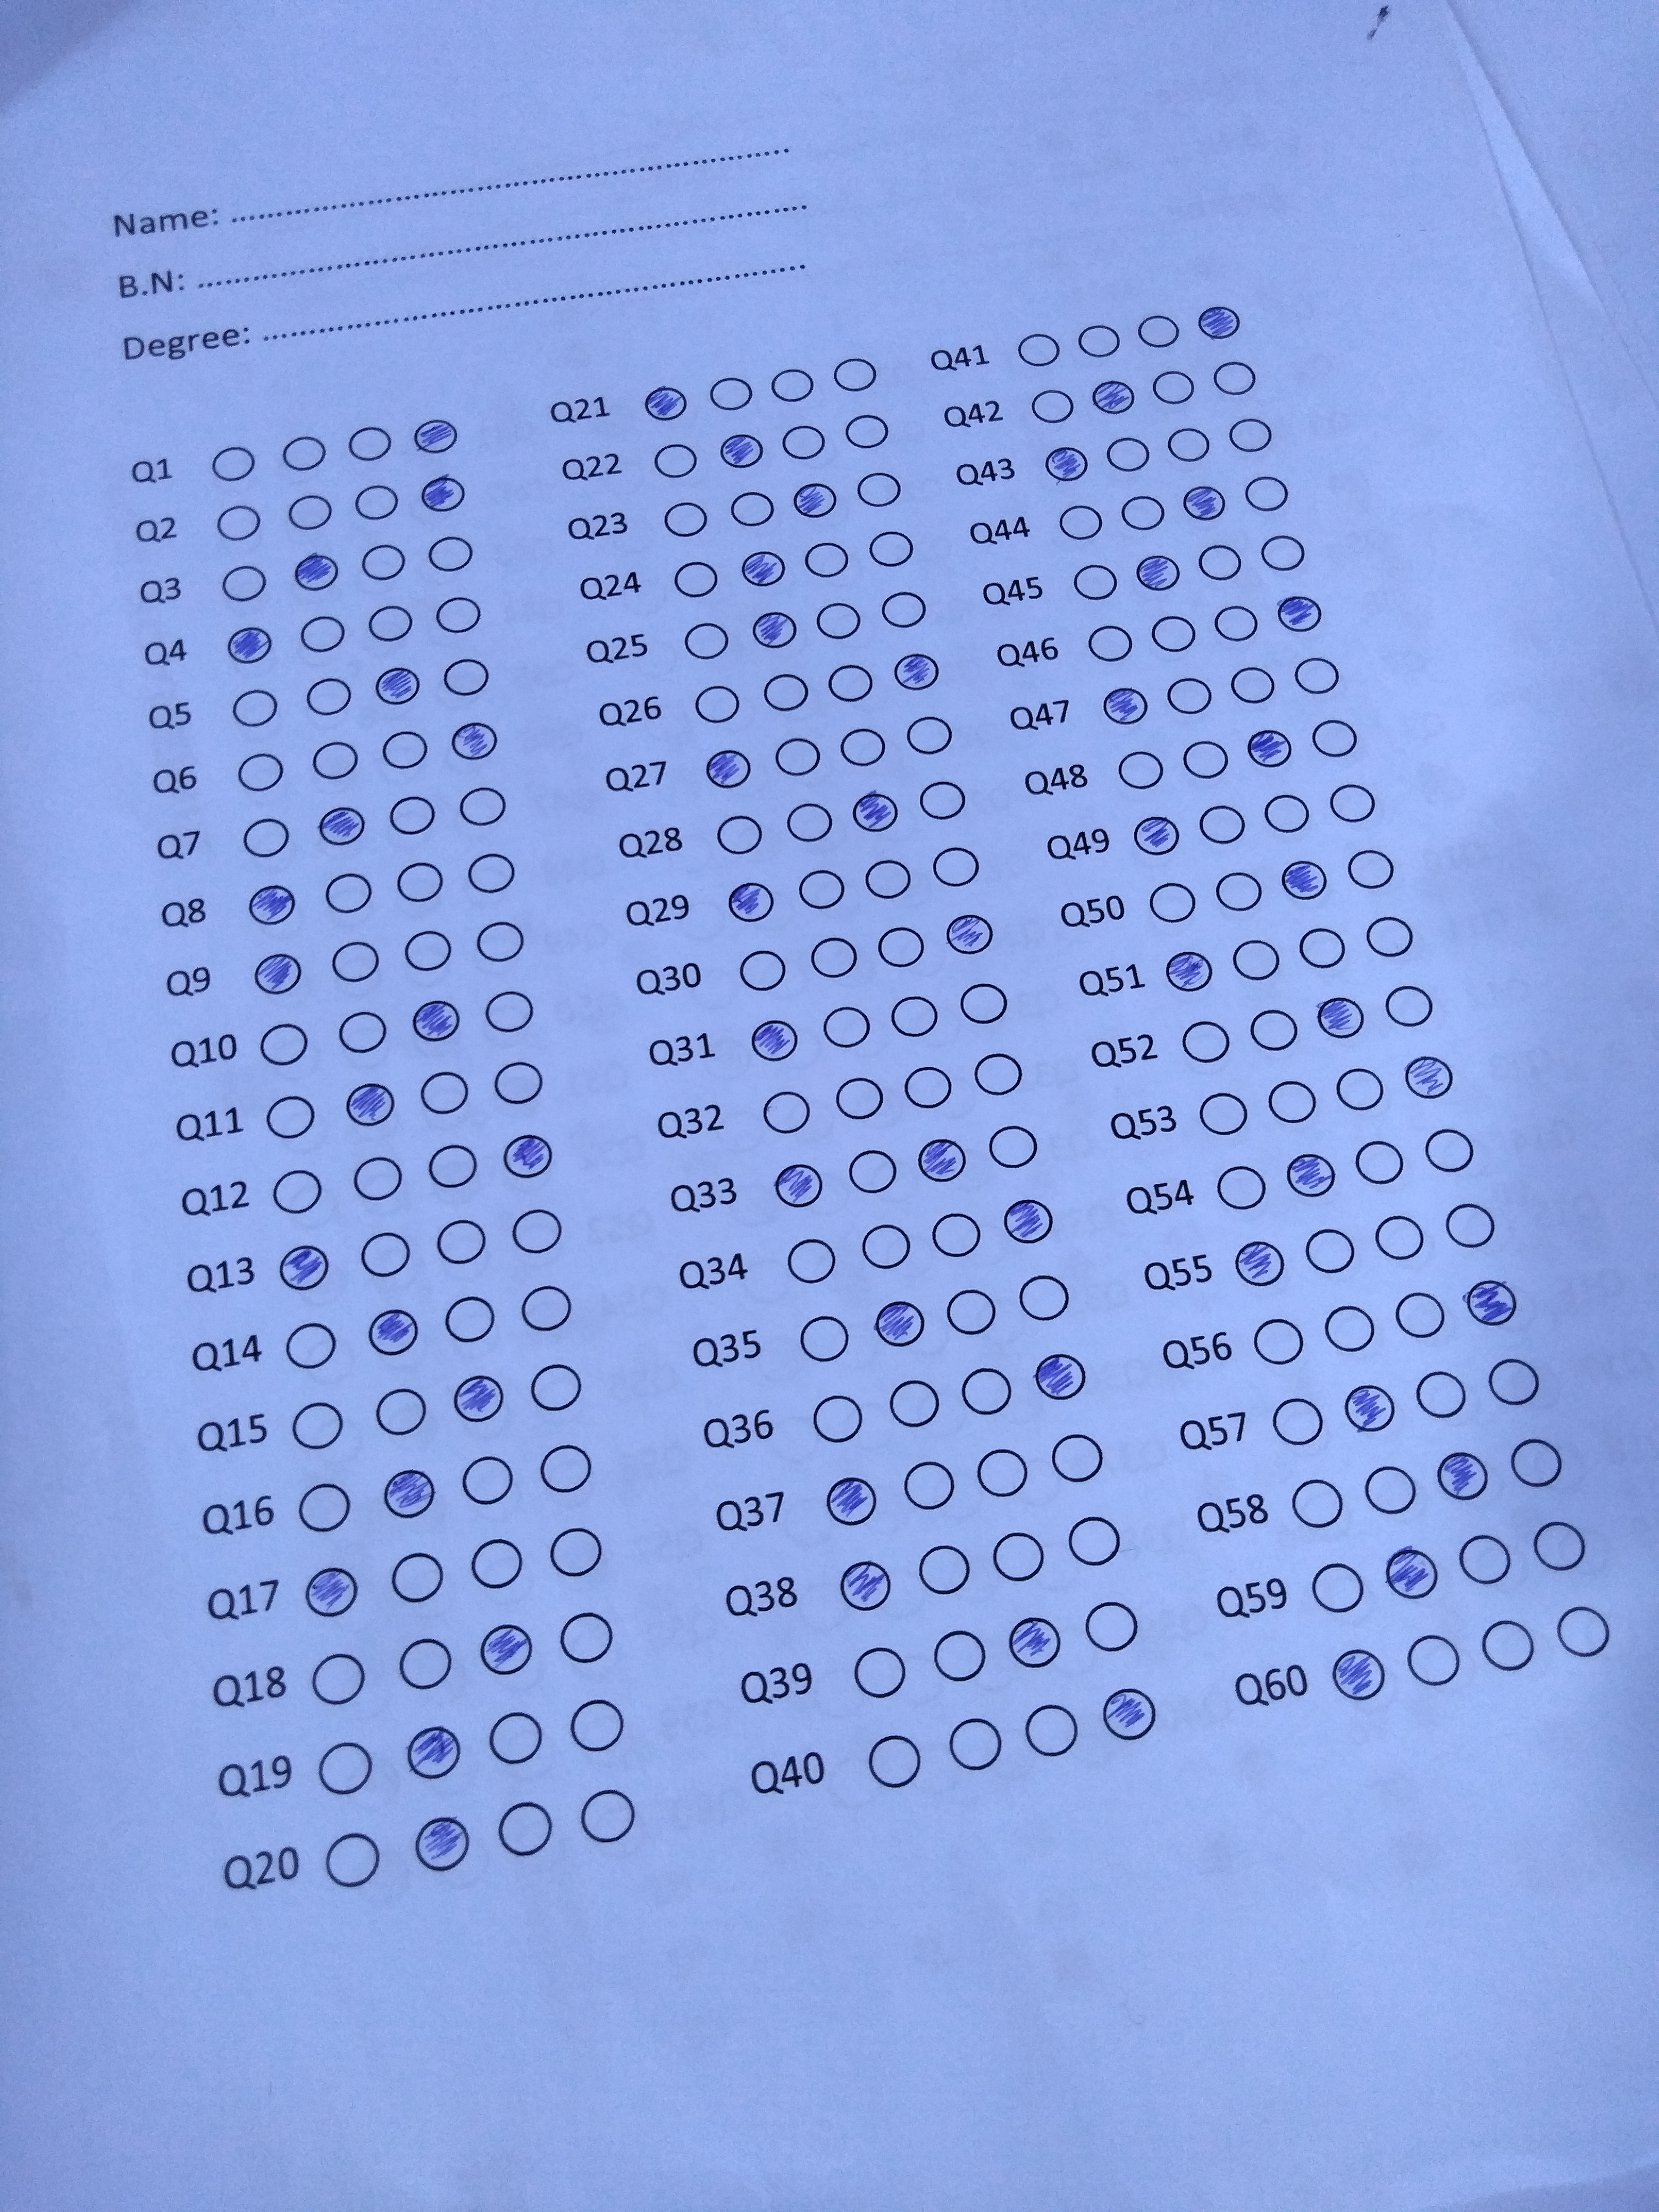not-c: (936, 1716, 1009, 1775), (1549, 1604, 1622, 1663), (1063, 1512, 1136, 1571), (908, 1540, 981, 1599), (894, 1453, 965, 1512), (969, 1444, 1040, 1503), (927, 1627, 999, 1686), (1394, 1632, 1467, 1689), (1046, 1432, 1119, 1489), (854, 1731, 927, 1789), (1082, 1595, 1154, 1653), (990, 1527, 1061, 1585), (836, 1644, 908, 1702), (1305, 1557, 1375, 1613), (1453, 1534, 1523, 1590), (1316, 1303, 1385, 1359), (1241, 1317, 1310, 1372), (920, 1204, 990, 1259), (1007, 1270, 1077, 1325), (953, 1366, 1023, 1421), (1387, 1287, 1457, 1343), (791, 1306, 861, 1362), (978, 1120, 1047, 1176), (1260, 1395, 1328, 1451), (1279, 1475, 1347, 1531), (939, 1282, 1007, 1338), (1364, 1211, 1432, 1266), (1439, 1195, 1507, 1251), (1419, 1127, 1486, 1183), (1480, 1618, 1549, 1672), (882, 1378, 951, 1432), (1483, 1355, 1553, 1409), (1527, 1521, 1595, 1575), (1359, 1463, 1427, 1517), (800, 1392, 868, 1446), (1408, 1369, 1476, 1423), (1347, 1139, 1415, 1193), (1504, 1439, 1572, 1493), (387, 1550, 450, 1608), (484, 1710, 547, 1768), (491, 1799, 554, 1857), (575, 1787, 638, 1844), (565, 1698, 627, 1756), (293, 1475, 355, 1533), (371, 1383, 434, 1440), (286, 1397, 349, 1454), (317, 1829, 380, 1886), (305, 1653, 368, 1710), (397, 1634, 460, 1691), (1023, 1703, 1086, 1761), (314, 1742, 376, 1797), (458, 1456, 521, 1508), (439, 1296, 500, 1348), (469, 1536, 530, 1588), (556, 1611, 617, 1663), (547, 1526, 608, 1578), (537, 1442, 598, 1494), (526, 1362, 587, 1414), (782, 799, 845, 850), (884, 996, 948, 1045), (953, 982, 1018, 1031), (1297, 923, 1361, 972), (1208, 1165, 1272, 1214), (1175, 1019, 1239, 1068), (807, 932, 871, 981), (816, 1003, 880, 1052), (831, 723, 896, 772), (1307, 716, 1371, 765), (1319, 777, 1384, 826), (753, 669, 817, 718), (1260, 787, 1324, 836), (854, 1223, 917, 1271), (965, 1050, 1028, 1099), (1140, 881, 1202, 930), (1380, 982, 1443, 1031), (1361, 914, 1424, 963), (1246, 1005, 1309, 1054), (1330, 1066, 1392, 1115), (1298, 1226, 1361, 1275), (1190, 1090, 1253, 1139), (873, 925, 936, 974), (843, 1148, 906, 1197), (829, 1075, 892, 1123), (894, 1064, 957, 1113), (899, 716, 962, 765), (915, 779, 978, 827), (929, 845, 992, 894), (861, 857, 924, 906), (793, 864, 856, 913), (728, 944, 791, 993), (1342, 846, 1405, 895), (1209, 867, 1272, 916), (1260, 1076, 1323, 1125), (1227, 939, 1290, 988), (863, 524, 925, 573), (1195, 798, 1258, 846), (1175, 738, 1237, 787), (1112, 747, 1175, 796), (770, 735, 833, 784), (706, 808, 769, 857), (491, 1059, 551, 1108), (333, 1008, 392, 1057), (423, 1143, 481, 1191), (782, 1238, 842, 1285), (267, 1167, 326, 1214), (261, 1094, 321, 1141), (253, 1021, 312, 1068), (239, 815, 298, 862), (355, 1231, 415, 1278), (324, 939, 383, 986), (315, 869, 375, 916), (415, 1069, 474, 1116), (505, 1207, 565, 1254), (877, 583, 931, 634), (284, 1322, 342, 1369), (758, 1087, 816, 1134), (519, 1285, 577, 1332), (349, 1153, 406, 1200), (432, 1217, 490, 1264), (399, 928, 457, 975), (390, 860, 448, 907), (826, 660, 880, 705), (1291, 655, 1349, 697), (1161, 676, 1216, 718), (1148, 610, 1204, 651), (1227, 664, 1283, 705), (1211, 603, 1267, 644), (1211, 361, 1267, 402), (1241, 474, 1297, 516), (721, 489, 777, 531), (777, 423, 833, 465), (800, 538, 856, 580), (1007, 327, 1063, 369), (1129, 308, 1185, 350), (1070, 563, 1126, 604), (474, 920, 525, 965), (683, 617, 734, 662), (659, 500, 709, 545), (648, 439, 699, 484), (380, 726, 430, 772), (220, 563, 270, 608), (298, 611, 349, 657), (366, 603, 416, 648), (286, 488, 336, 533), (436, 590, 486, 636), (235, 749, 286, 794), (1194, 540, 1248, 582), (1162, 423, 1216, 465), (1256, 533, 1310, 575), (1025, 385, 1079, 427), (1068, 320, 1122, 362), (1119, 493, 1173, 535), (852, 469, 908, 509), (1148, 369, 1204, 409), (1225, 415, 1281, 455), (842, 415, 897, 455), (810, 601, 866, 641), (1054, 502, 1110, 542), (1101, 432, 1157, 472), (692, 681, 741, 726), (214, 502, 263, 547), (826, 354, 877, 397), (769, 364, 819, 408), (708, 371, 758, 415), (669, 554, 720, 597), (305, 674, 355, 718), (230, 685, 281, 728), (423, 533, 474, 577), (357, 540, 408, 583), (352, 482, 403, 526), (209, 444, 260, 488), (343, 425, 394, 469), (443, 655, 493, 698), (425, 531, 476, 575), (465, 850, 516, 894), (387, 794, 437, 838), (457, 786, 507, 829), (310, 740, 361, 784), (484, 989, 535, 1033), (1082, 622, 1136, 662), (281, 430, 329, 474)
taken-c: (1101, 1686, 1159, 1743), (1162, 941, 1220, 998), (1403, 1047, 1460, 1104), (1272, 587, 1330, 644), (382, 1467, 439, 1522), (1436, 1449, 1492, 1507), (303, 1562, 361, 1618), (1006, 1615, 1063, 1670), (836, 1559, 894, 1615), (479, 1622, 537, 1677), (1232, 1235, 1290, 1291), (1462, 1277, 1520, 1332), (1284, 1146, 1342, 1202), (1033, 435, 1091, 491), (1127, 805, 1185, 860), (1241, 718, 1298, 773), (1384, 1547, 1439, 1602), (1331, 1646, 1387, 1702), (413, 1817, 469, 1872), (406, 1724, 462, 1780), (1344, 1381, 1399, 1437), (1279, 855, 1335, 911), (1312, 991, 1368, 1047), (1096, 676, 1152, 732), (1133, 549, 1187, 599), (871, 1299, 925, 1348), (824, 1477, 878, 1526), (453, 1376, 507, 1425), (917, 1136, 967, 1186), (1033, 1352, 1086, 1400), (1002, 1198, 1054, 1247), (772, 1162, 824, 1211), (502, 1132, 556, 1179), (275, 1244, 329, 1291), (1195, 298, 1246, 347), (369, 1312, 422, 1359), (1178, 481, 1229, 528), (1093, 376, 1143, 423), (791, 477, 842, 523), (850, 791, 901, 836), (317, 805, 368, 850), (749, 1019, 800, 1064), (411, 416, 460, 462), (450, 718, 498, 763), (225, 622, 274, 667), (291, 550, 340, 596), (749, 608, 798, 653), (253, 951, 301, 996), (716, 430, 767, 474), (643, 383, 694, 427), (415, 474, 465, 517), (702, 745, 753, 789), (890, 653, 941, 697), (247, 885, 298, 928), (347, 1083, 397, 1127), (945, 913, 995, 956), (741, 547, 789, 590), (371, 664, 420, 707), (413, 1000, 462, 1043), (727, 881, 775, 925)
